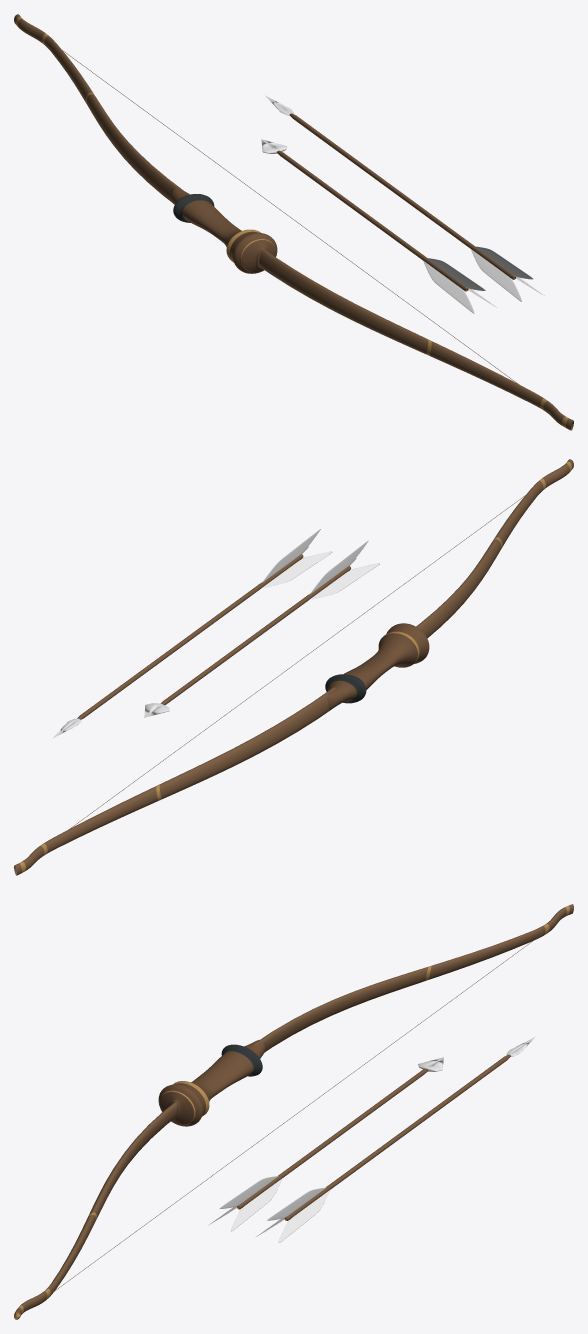
The model's file is bow-preview.glb.
3 views of the same model, one above another, from view 1: azimuth 30°, elevation 25°; view 2: azimuth 150°, elevation 25°; view 3: azimuth 330°, elevation 25° (orthographic).
Parts seen in each view (by area): view 1: BezierCurve.001, Circle, BezierCurve.002, Cylinder.006, Cylinder.004, Plane.004, Plane.010, Cylinder.003; view 2: BezierCurve.002, Circle, BezierCurve.001, Cylinder.006, Cylinder.004, Plane.004, Plane.010, Cylinder.003; view 3: BezierCurve.002, Circle, BezierCurve.001, Cylinder.006, Cylinder.004, Plane.009, Plane.003, Cylinder.003.
Boxes of the visible parts, bbox=[...] form: BezierCurve.001: bbox=[259, 249, 573, 430]; Circle: bbox=[170, 187, 277, 273]; BezierCurve.002: bbox=[14, 14, 185, 202]; Cylinder.006: bbox=[289, 113, 516, 279]; Cylinder.004: bbox=[277, 150, 468, 291]; Plane.004: bbox=[423, 261, 474, 313]; Plane.010: bbox=[471, 249, 521, 301]; Cylinder.003: bbox=[62, 50, 517, 383]; BezierCurve.002: bbox=[14, 687, 335, 875]; Circle: bbox=[325, 623, 429, 709]; BezierCurve.001: bbox=[416, 459, 573, 638]; Cylinder.006: bbox=[77, 554, 303, 719]; Cylinder.004: bbox=[161, 565, 350, 705]; Plane.004: bbox=[310, 563, 379, 599]; Plane.010: bbox=[262, 551, 332, 587]; Cylinder.003: bbox=[70, 495, 525, 828]; BezierCurve.002: bbox=[253, 904, 573, 1052]; Circle: bbox=[158, 1039, 265, 1126]; BezierCurve.001: bbox=[14, 1102, 177, 1319]; Cylinder.006: bbox=[284, 1054, 510, 1220]; Cylinder.004: bbox=[237, 1068, 428, 1209]; Plane.009: bbox=[278, 1190, 329, 1242]; Plane.003: bbox=[231, 1179, 281, 1231]; Cylinder.003: bbox=[52, 933, 543, 1292].
Size of the model in its own units: 0.7151 by 0.1268 by 3.2.
